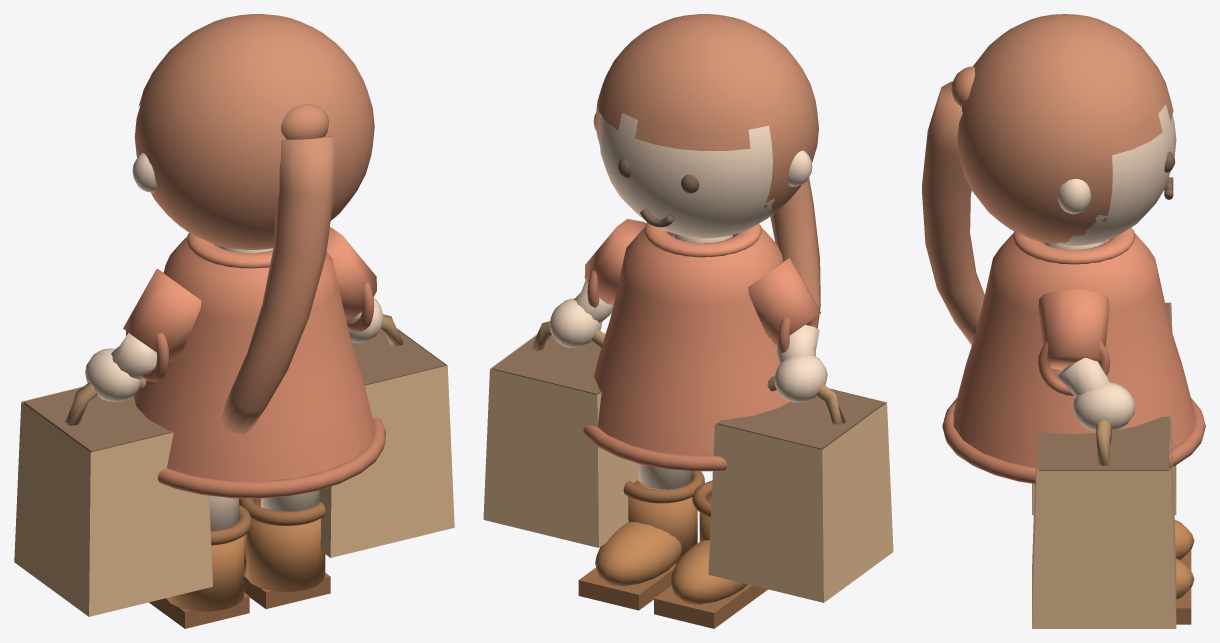
Rendered from 11-shopper-with-bags.glb.
3 renders of one model, left to right at view 1: azimuth 30°, elevation 25°; view 2: azimuth 150°, elevation 25°; view 3: azimuth 270°, elevation 25°, orthographic. The views are drawn at different scales.
Visible parts, largest first — view 1: HairCap, Dress, BagBody_L, BagBody_R, Ponytail, BootShaft_R, BagMouth_L, HemRing, Sleeve_L, BootShaft_L, BagMouth_R, Sleeve_R (+15 smaller); view 2: Dress, BagBody_L, HairCap, BagBody_R, Head, BagMouth_L, BootFoot_R, BagMouth_R, Ponytail, Sleeve_L, BootFoot_L, BootShaft_R (+13 smaller); view 3: HairCap, Dress, BagBody_R, Ponytail, Head, BagMouth_R, Sleeve_R, HemRing, Hand_R, Collar, Arm_R, Ear_R (+6 smaller).
Boxes of the visible parts, bbox=[...] form: HairCap: bbox=[134, 14, 374, 249]; Dress: bbox=[134, 237, 375, 481]; BagBody_L: bbox=[14, 386, 212, 616]; BagBody_R: bbox=[319, 328, 454, 557]; Ponytail: bbox=[220, 135, 335, 434]; BootShaft_R: bbox=[246, 498, 325, 591]; BagMouth_L: bbox=[23, 387, 172, 452]; HemRing: bbox=[157, 417, 385, 498]; Sleeve_L: bbox=[123, 269, 201, 362]; BootShaft_L: bbox=[166, 536, 244, 611]; BagMouth_R: bbox=[352, 329, 445, 385]; Sleeve_R: bbox=[326, 227, 376, 319]; Dress: bbox=[594, 228, 789, 455]; BagBody_L: bbox=[708, 388, 893, 602]; HairCap: bbox=[595, 14, 818, 215]; BagBody_R: bbox=[483, 333, 638, 547]; Head: bbox=[598, 113, 774, 238]; BagMouth_L: bbox=[717, 389, 884, 449]; BootFoot_R: bbox=[595, 521, 681, 586]; BagMouth_R: bbox=[492, 335, 600, 394]; Ponytail: bbox=[770, 177, 820, 327]; Sleeve_L: bbox=[748, 257, 820, 344]; BootFoot_L: bbox=[670, 540, 747, 604]; BootShaft_R: bbox=[628, 480, 697, 563]; HairCap: bbox=[957, 14, 1173, 243]; Dress: bbox=[953, 233, 1194, 468]; BagBody_R: bbox=[1032, 416, 1176, 628]; Ponytail: bbox=[922, 81, 984, 345]; Head: bbox=[1057, 104, 1176, 245]; BagMouth_R: bbox=[1038, 417, 1169, 470]; Sleeve_R: bbox=[1038, 290, 1109, 369]; HemRing: bbox=[942, 398, 1205, 483]; Hand_R: bbox=[1073, 382, 1135, 431]; Collar: bbox=[1012, 227, 1135, 264]; Arm_R: bbox=[1056, 358, 1110, 397]; Ear_R: bbox=[1057, 179, 1090, 214].
Size of the model in its own units: 0.678 by 1.04 by 0.4715.
